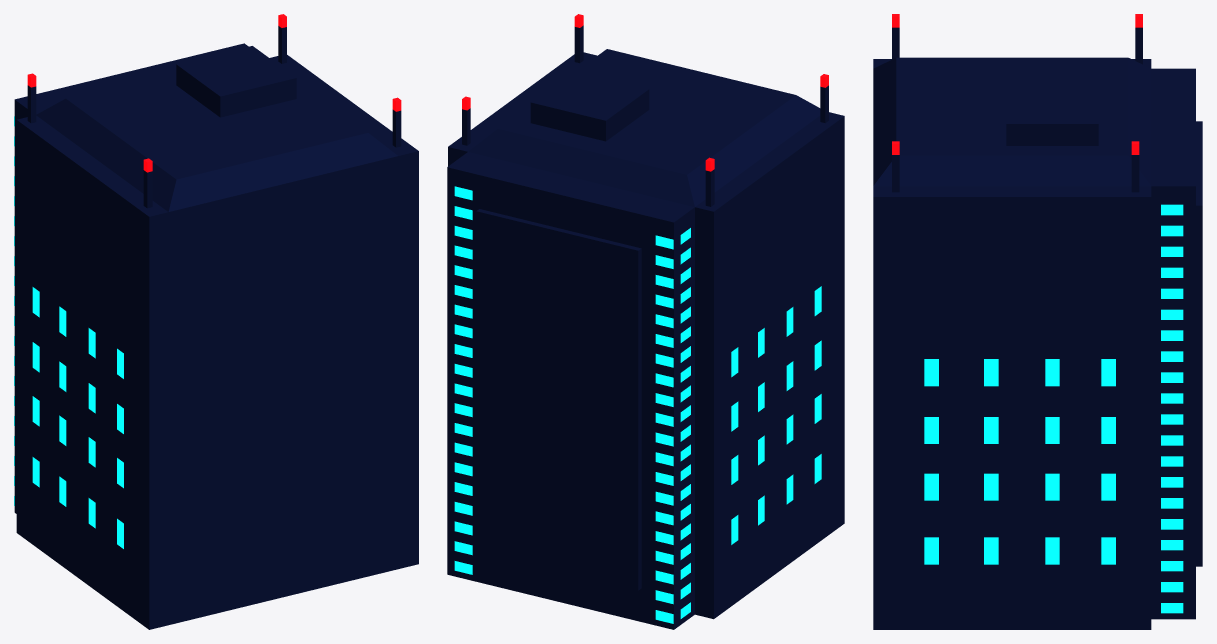
The model's file is house5.glb.
3 views of the same model, side by side, from view 1: azimuth 30°, elevation 25°; view 2: azimuth 150°, elevation 25°; view 3: azimuth 270°, elevation 25° (orthographic). The views are drawn at different scales.
Parts seen in each view (by area): view 1: 物体.001; view 2: 物体.001; view 3: 物体.001.
Boxes of the visible parts, left/top/right/bottom form: 物体.001: left=14, top=14, right=418, bottom=629; 物体.001: left=447, top=14, right=844, bottom=629; 物体.001: left=873, top=14, right=1202, bottom=629.
Size of the model in its own units: 29.51 by 47.74 by 29.61.
